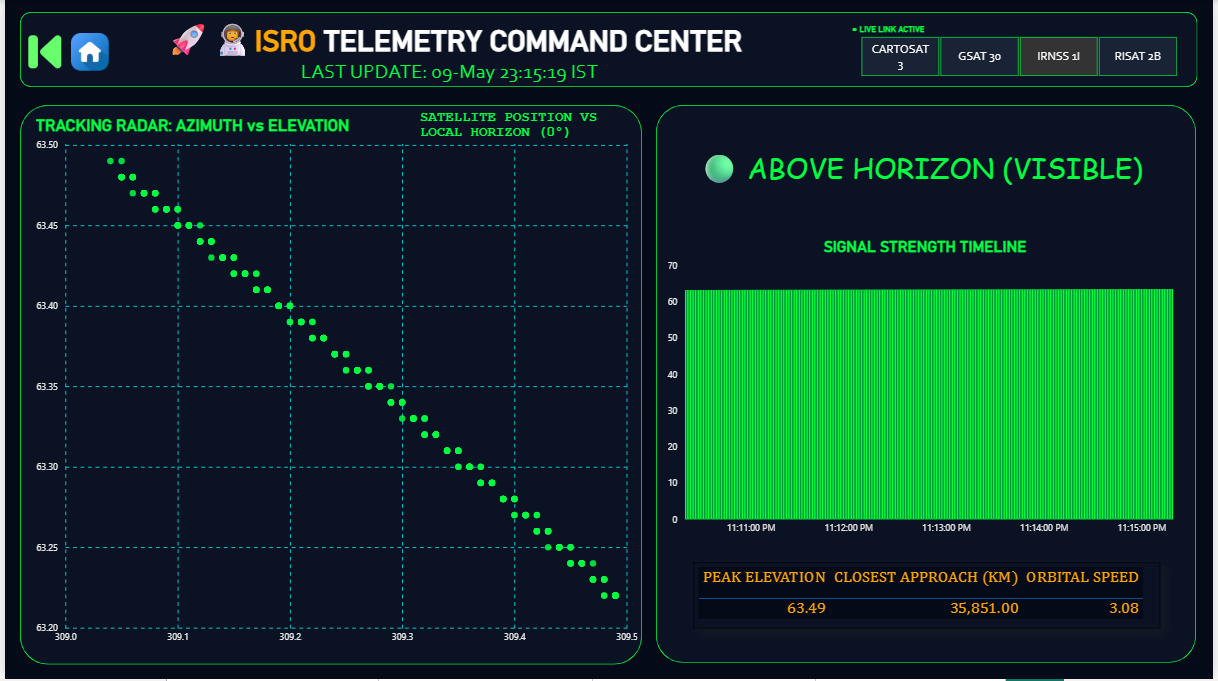

What the dashboard file says about the page in this screenshot:
{"tool":"powerbi","page":{"name":"SIGNAL STATUS","canvas":[1600,900],"ordinal":3},"visuals":[{"type":"shape","box":[862.2,139.4,715.8,739.4],"z":0},{"type":"shape","box":[19.9,15.9,1560.8,99.4],"z":1000},{"type":"slicer","fields":{"Values":["Master_ISRO_Telemetry.satname"]},"box":[1110.2,26.8,467.7,79.5],"z":2000},{"type":"textbox","box":[207.9,16.5,810.2,73.2],"z":3000},{"type":"shape","box":[18.9,139.4,824.4,741.7],"z":4000},{"type":"scatterChart","title":"TRACKING RADAR: AZIMUTH vs ELEVATION","fields":{"X":["Avg(Master_ISRO_Telemetry.Azimuth)"],"Y":["Avg(Master_ISRO_Telemetry.Elevation)"],"Category":["Master_ISRO_Telemetry.IST_TIME"]},"box":[35.4,153.5,807.9,708.7],"z":5000},{"type":"card","fields":{"Values":["Master_ISRO_Telemetry.Last_Sync_Time"]},"box":[266.9,51.2,644.9,85],"z":6000},{"type":"textbox","box":[545.7,139.4,297.6,56.7],"z":7000},{"type":"clusteredColumnChart","title":"SIGNAL STRENGTH TIMELINE","fields":{"Category":["Master_ISRO_Telemetry.IST_TIME"],"Y":["Avg(Master_ISRO_Telemetry.Elevation)"]},"box":[850.4,314.2,737,403.9],"z":8000},{"type":"tableEx","fields":{"Values":["Max(Master_ISRO_Telemetry.Elevation)","Min(Master_ISRO_Telemetry.Distance_ISTRAC_km)","Master_ISRO_Telemetry.Live_Velocity_kms"]},"box":[911.8,746.5,618.9,87.4],"z":9000},{"type":"card","fields":{"Values":["Min(Master_ISRO_Telemetry.Visibility_Status)"]},"box":[897.6,122.8,635.4,198.4],"z":10000},{"type":"image","box":[87.5,43.7,49.7,49.7],"z":11000},{"type":"image","box":[27.8,43.7,49.7,49.7],"z":12000}]}

Visuals, with their boxes in screenshot pixels (x1, y1, x2, y2), scaled from the page's 1600x900 canvas onto the 1218x681 screenshot:
shape: (656, 105, 1201, 665)
shape: (15, 12, 1203, 87)
slicer - Master_ISRO_Telemetry.satname: (845, 20, 1201, 80)
textbox: (158, 12, 775, 68)
shape: (14, 105, 642, 667)
"TRACKING RADAR: AZIMUTH vs ELEVATION" scatterChart: (27, 116, 642, 652)
card - Master_ISRO_Telemetry.Last_Sync_Time: (203, 39, 694, 103)
textbox: (415, 105, 642, 148)
"SIGNAL STRENGTH TIMELINE" clusteredColumnChart: (647, 238, 1208, 543)
tableEx - Max(Master_ISRO_Telemetry.Elevation) x Min(Master_ISRO_Telemetry.Distance_ISTRAC_km): (694, 565, 1165, 631)
card - Min(Master_ISRO_Telemetry.Visibility_Status): (683, 93, 1167, 243)
image: (67, 33, 104, 71)
image: (21, 33, 59, 71)
